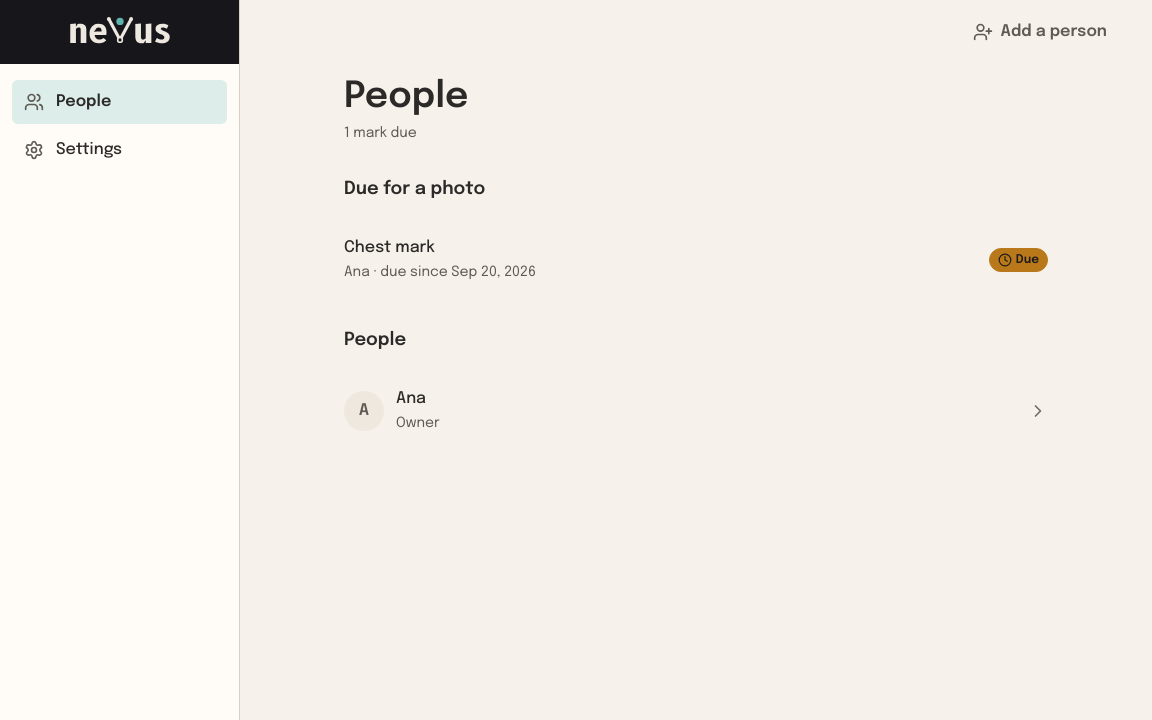
reminders › lists what is due on the home page and snoozing takes it away
expect the heading "Due for a photo" is shown: met, box x1=344 y1=180 x2=485 y2=198
Step 1. Click the link "Chest mark Ana · due since Sep 20, 2026" → [389, 248], box x1=344 y1=239 x2=536 y2=279
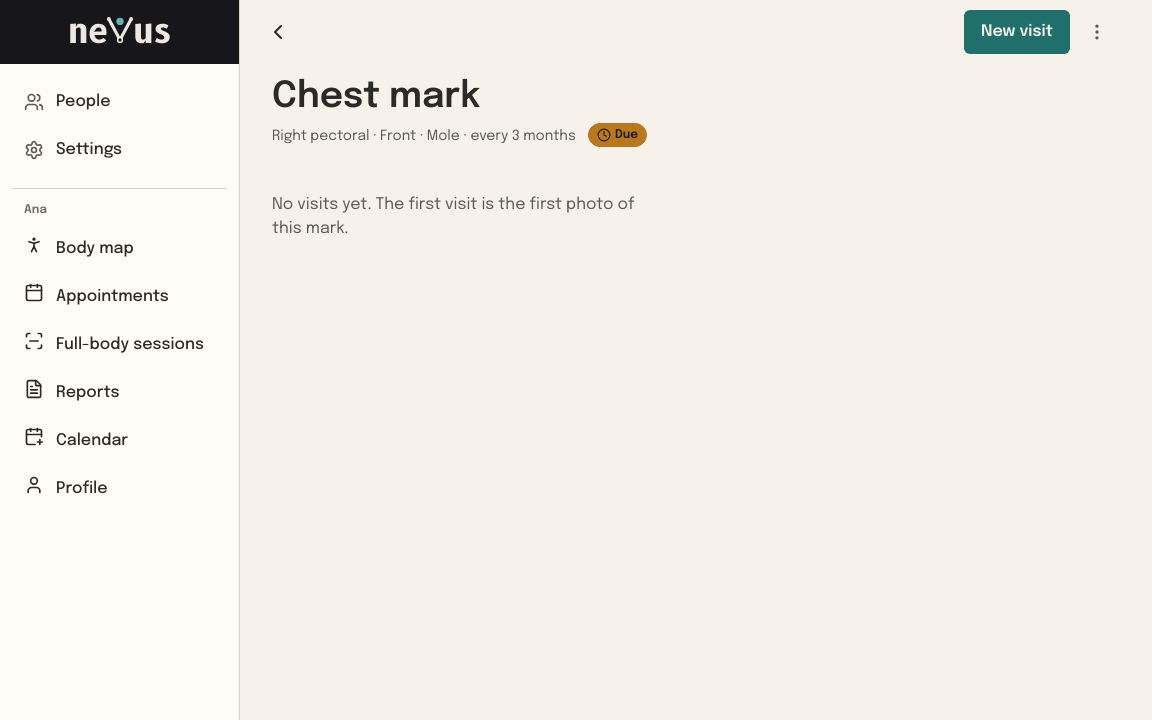
Step 2. Click the button named "More" → [1097, 32], box x1=1074 y1=10 x2=1120 y2=54
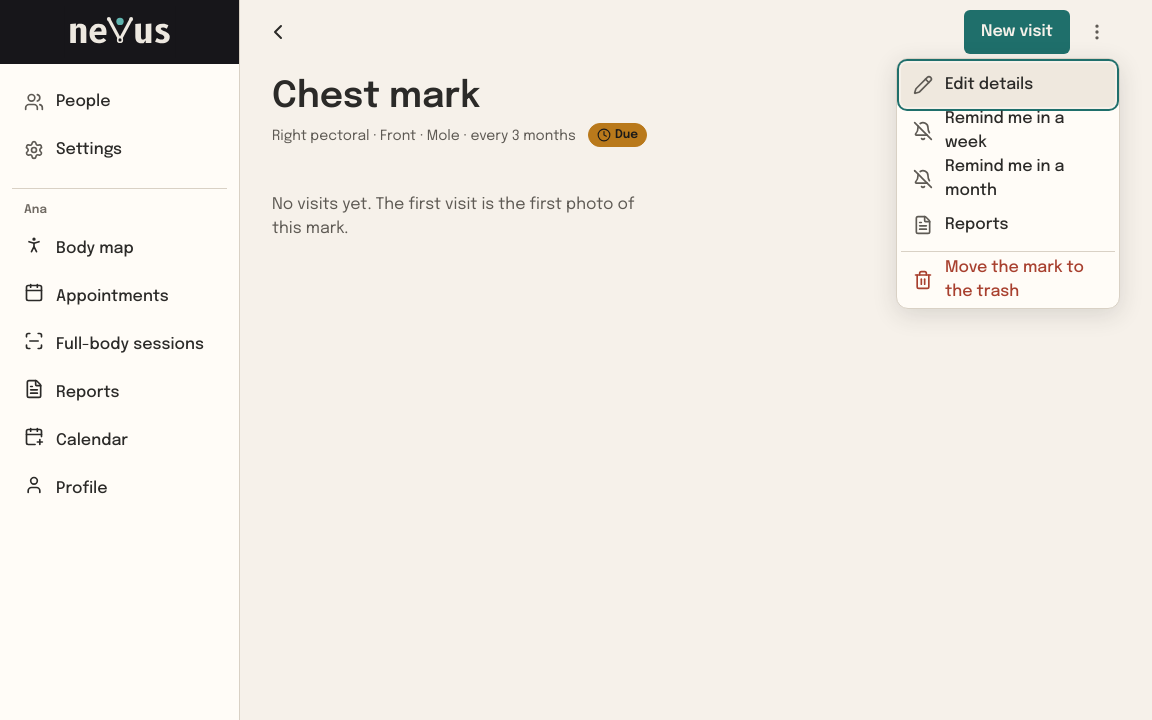
Step 3. Click the menu item "Remind me in a week" → [1008, 131], box x1=901 y1=107 x2=1115 y2=155
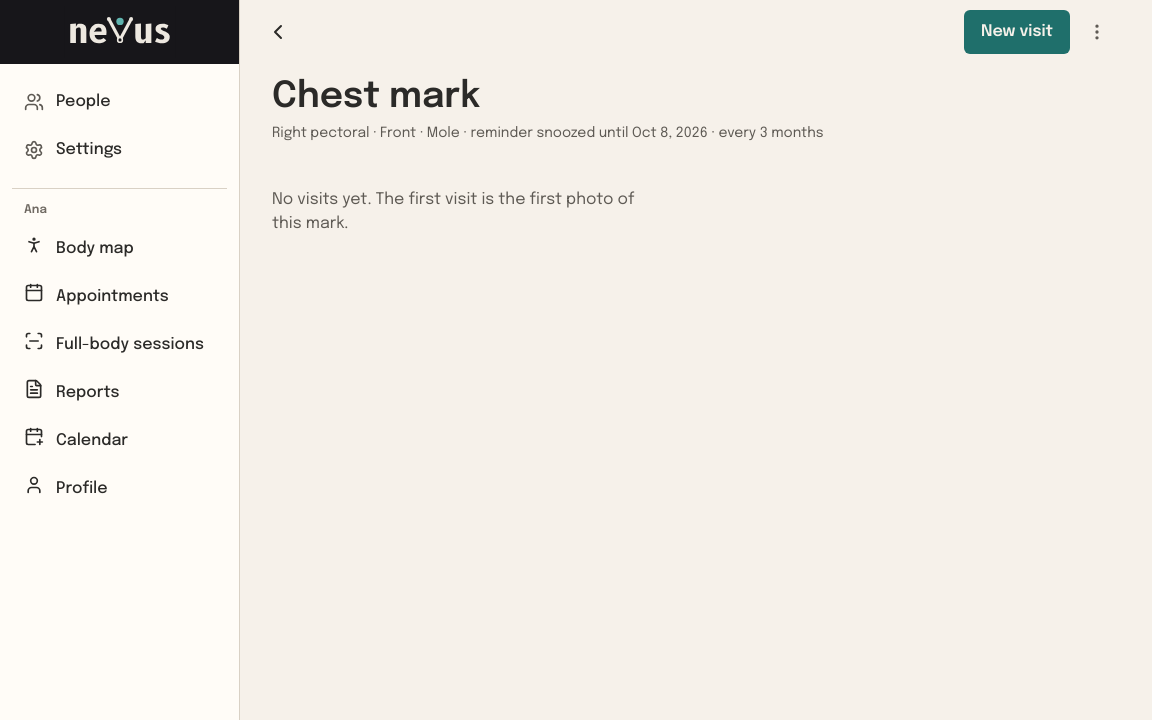
expect the text "snoozed until" is shown: met, box x1=272 y1=126 x2=824 y2=140
